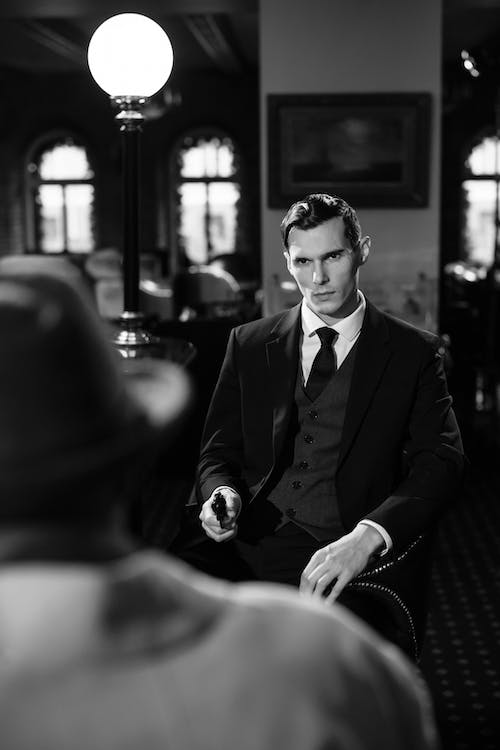gun: (207, 487, 232, 535)
